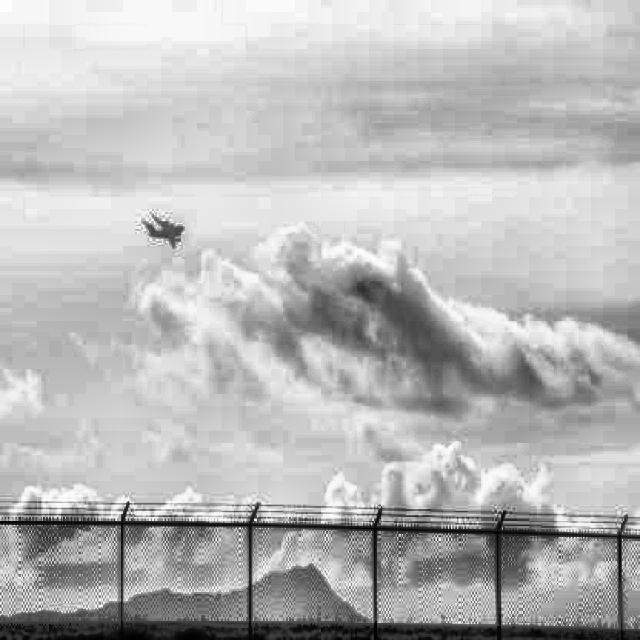C17: (141, 212, 185, 250)
